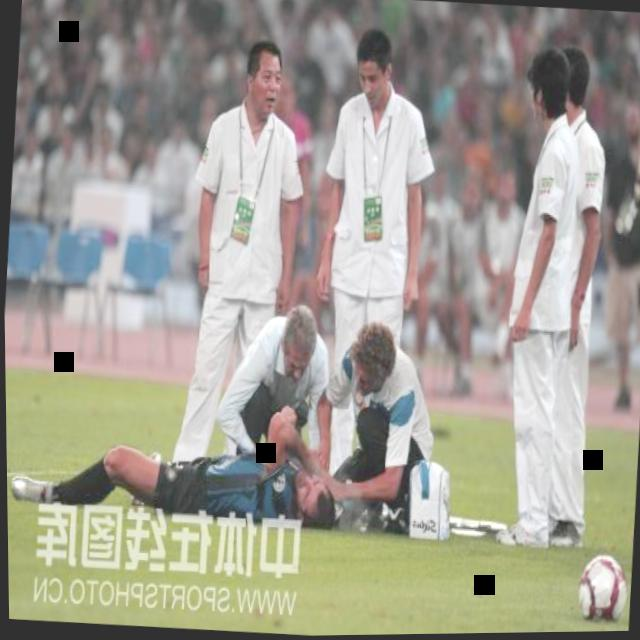Fall-Detected: (9, 397, 358, 536)
